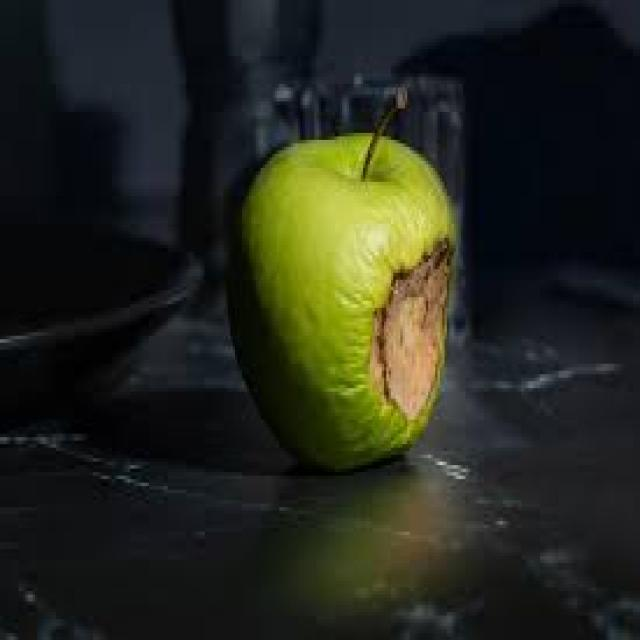Used Apple: (230, 132, 458, 466)
